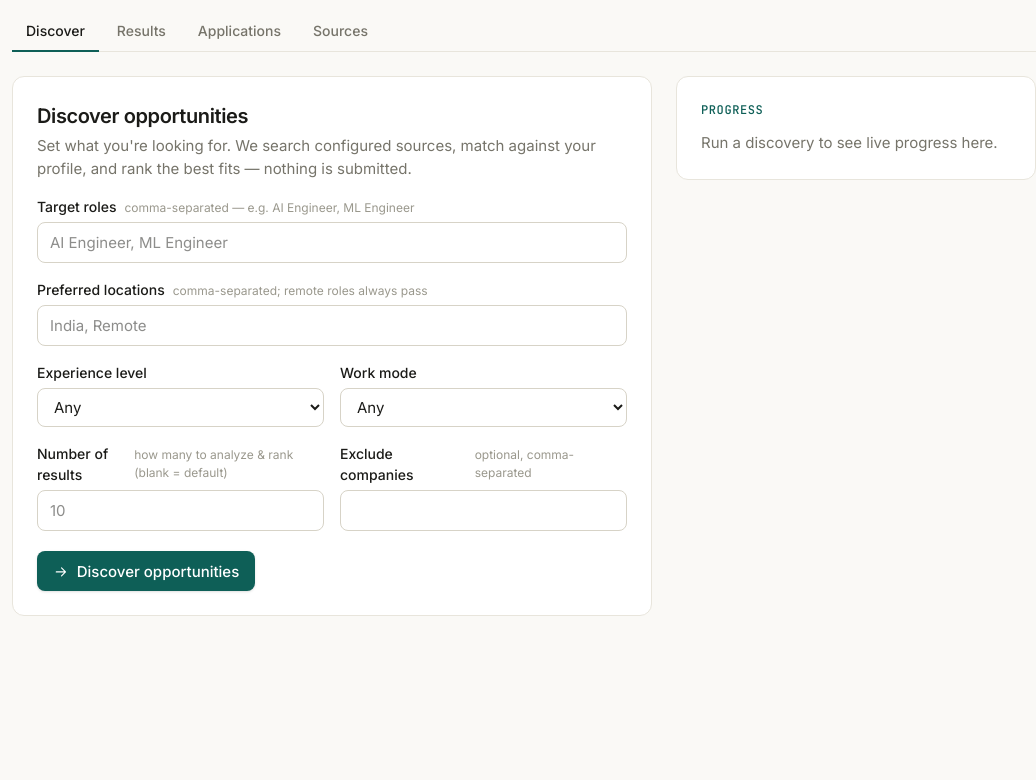
Test: mounts, runs a discovery, and shows a ranked result
Click the button "Discover opportunities" at [146, 571], box x1=37 y1=551 x2=255 y2=591
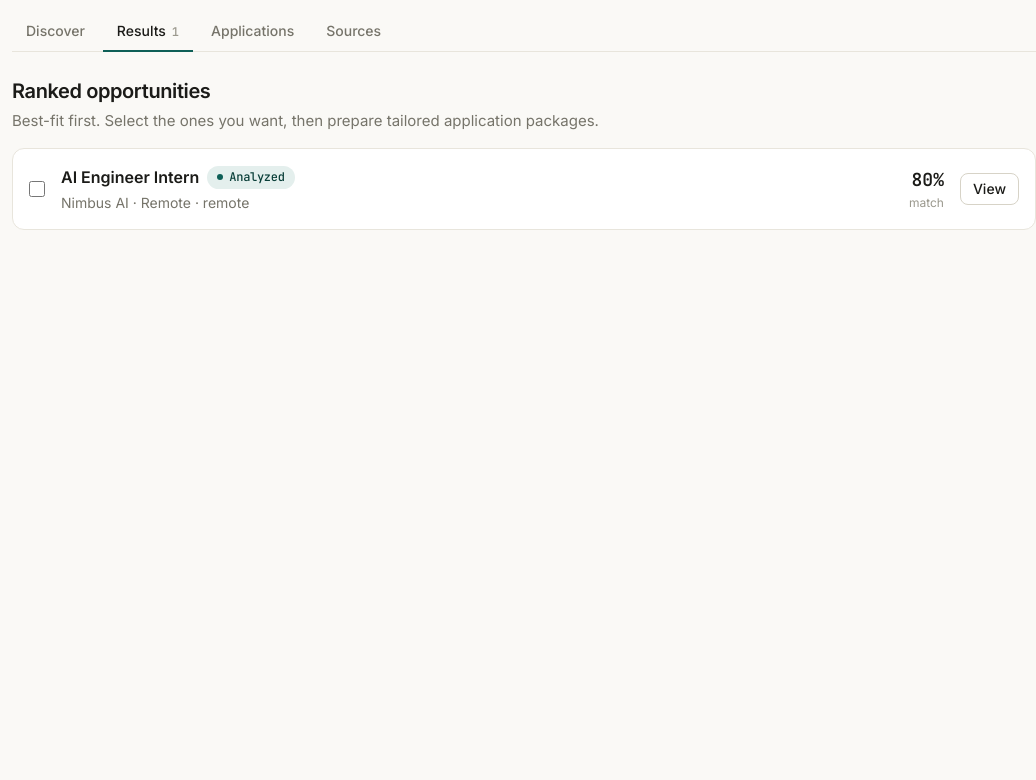
Result: the text "AI Engineer Intern" is shown at x1=61 y1=165 x2=199 y2=190
Result: the text "Nimbus AI · Remote · remote" is shown at x1=61 y1=194 x2=249 y2=211
